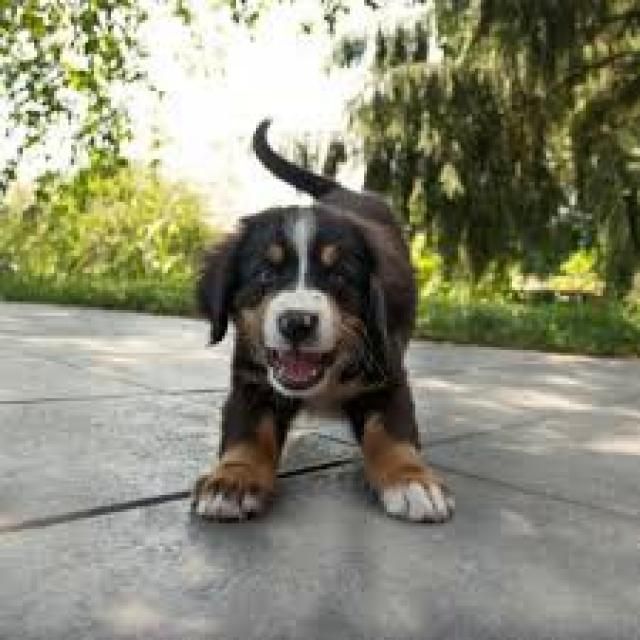dog: (191, 119, 452, 521)
